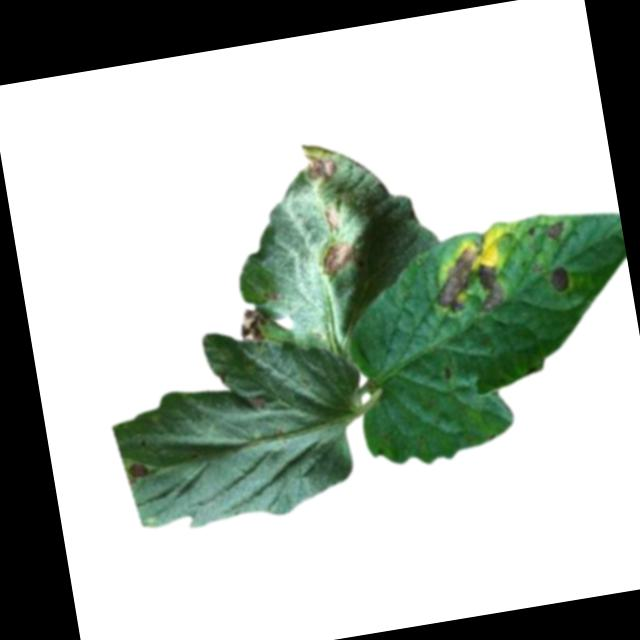Early_blight: (428, 239, 508, 322), (316, 237, 356, 277), (234, 302, 270, 346), (303, 149, 338, 183), (548, 261, 575, 295), (544, 215, 567, 247), (128, 457, 153, 482), (322, 206, 340, 235), (249, 388, 267, 412)
